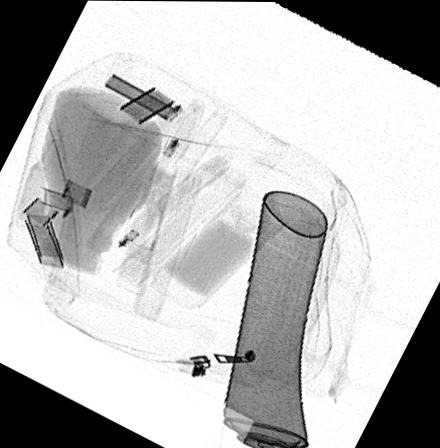Sprayer: (218, 190, 328, 448)
